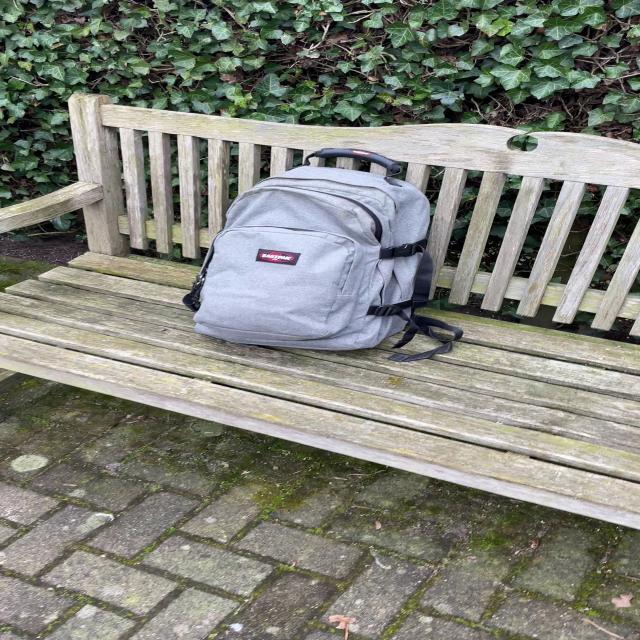backpack: (176, 144, 441, 355)
